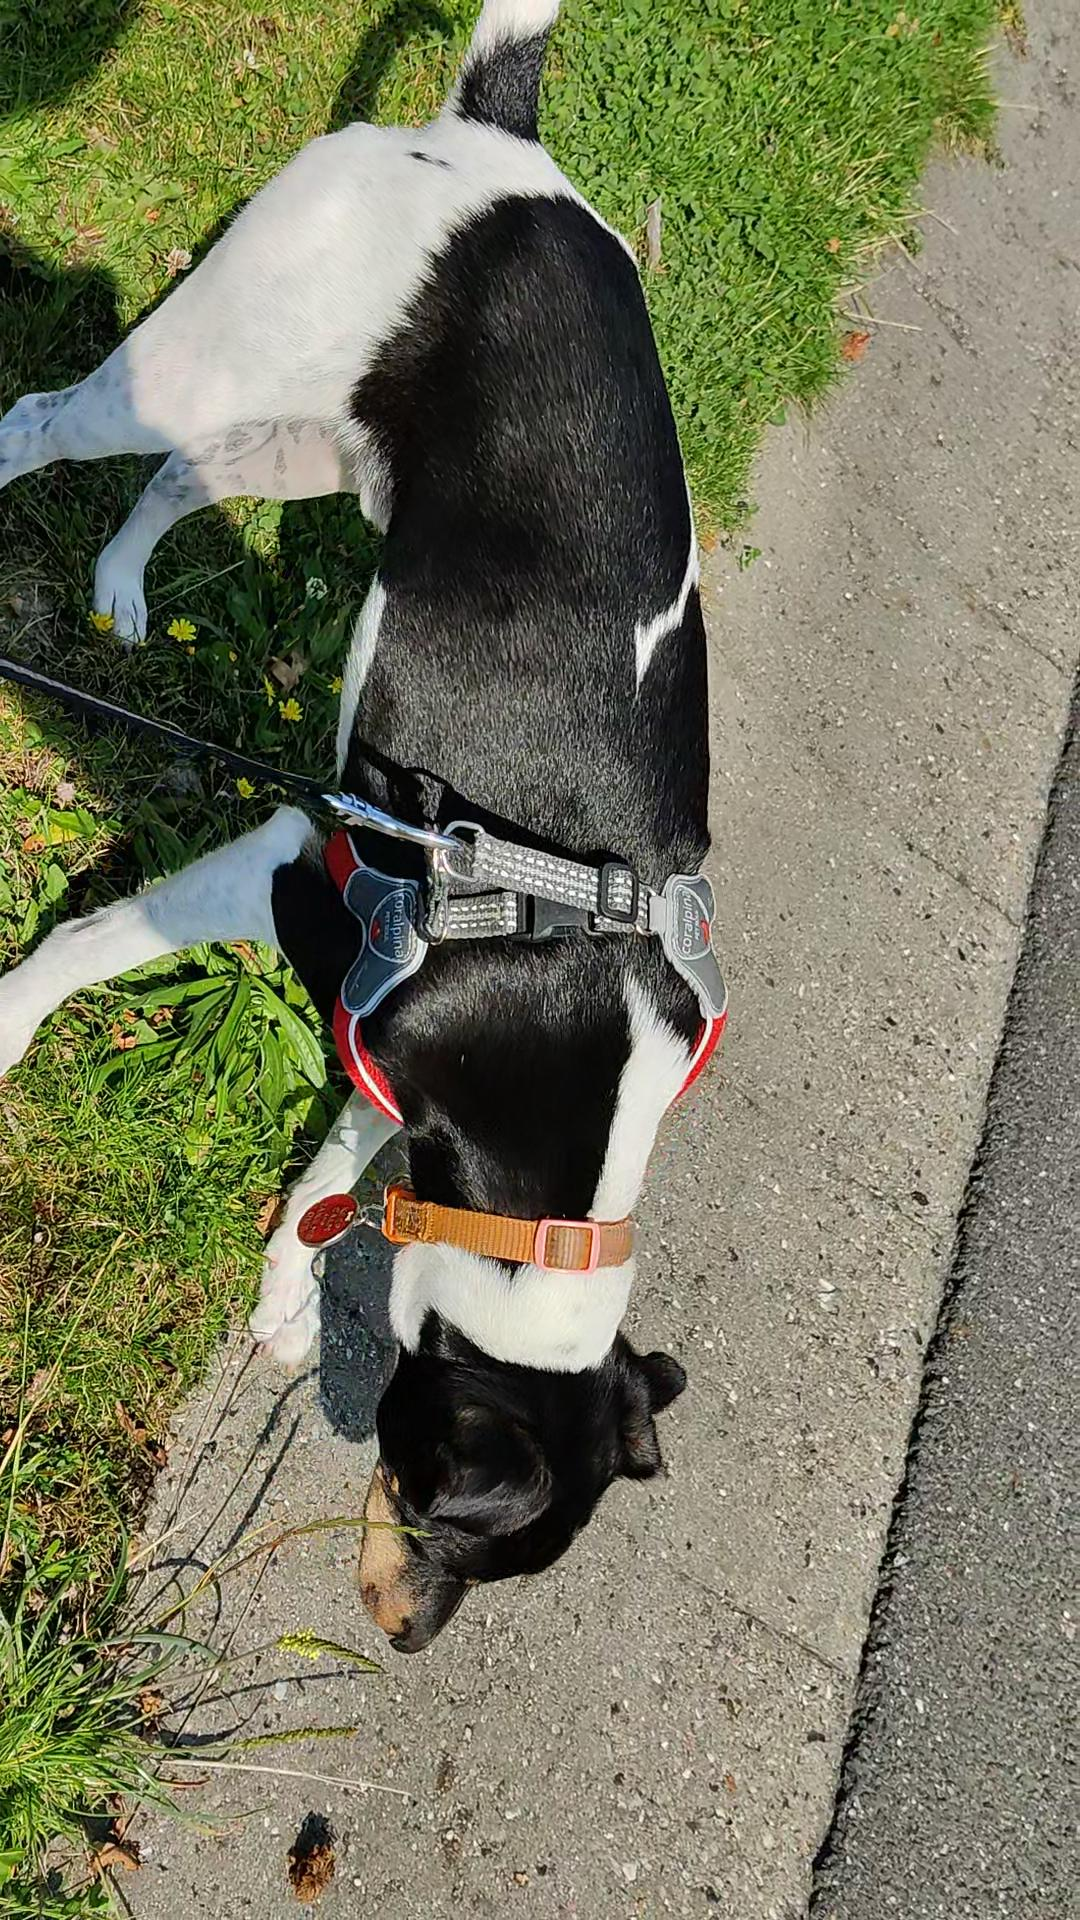Dog: (0, 0, 729, 1654)
